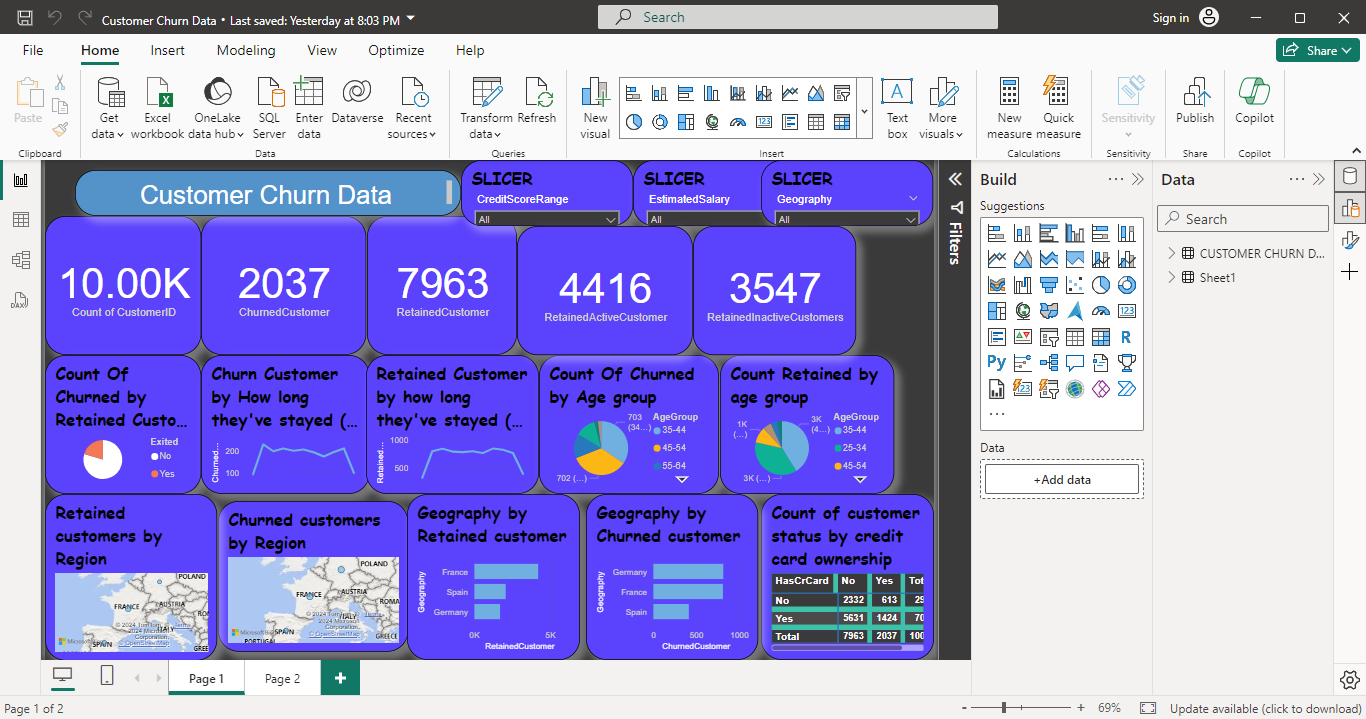

Layout of this report page (visuals, bound fields, positions):
{"tool":"powerbi","page":{"name":"Page 1","canvas":[1280,720],"ordinal":0},"visuals":[{"type":"card","title":"Count Of Churned by  Retained  Customer","fields":{"Values":["CUSTOMER CHURN DATA.CustomerID"]},"box":[0,80.4,225.3,200.2],"z":0},{"type":"pieChart","title":"Count Of Churned by  Retained  Customer Showing proportion","fields":{"Category":["CUSTOMER CHURN DATA.Exited"],"Y":["CUSTOMER CHURN DATA.Exited"]},"box":[0,280.8,224.6,200.2],"z":1000},{"type":"card","title":"Count Of Churned by  Retained  Customer Showing proportion","fields":{"Values":["CUSTOMER CHURN DATA.ChurnedCustomer"]},"box":[225.3,80.4,237.8,200.2],"z":2000},{"type":"card","title":"Count Of Churned by  Retained  Customer Showing proportion","fields":{"Values":["CUSTOMER CHURN DATA.RetainedCustomer"]},"box":[463,80.4,216.3,200.2],"z":3000},{"type":"lineChart","title":"Churn Customer by How long they''ve stayed (Tenure)","fields":{"Category":["CUSTOMER CHURN DATA.Tenure"],"Y":["CUSTOMER CHURN DATA.ChurnedCustomer"]},"box":[224.6,280.8,243.4,200.2],"z":4000},{"type":"lineChart","title":"Retained Customer  by how long they''ve stayed (Tenure)","fields":{"Category":["CUSTOMER CHURN DATA.Tenure"],"Y":["CUSTOMER CHURN DATA.RetainedCustomer"]},"box":[462.2,280.8,249.1,200.2],"z":5000},{"type":"pieChart","title":"Count Of Churned by  Age group","fields":{"Category":["CUSTOMER CHURN DATA.AgeGroup"],"Y":["CUSTOMER CHURN DATA.ChurnedCustomer"]},"box":[711.4,280.8,259.2,200.2],"z":6000},{"type":"pieChart","title":"Count Retained by age group","fields":{"Category":["CUSTOMER CHURN DATA.AgeGroup"],"Y":["CUSTOMER CHURN DATA.RetainedCustomer"]},"box":[972,280.8,250.6,200.2],"z":7000},{"type":"pivotTable","title":"Count of customer status by credit card ownership ","fields":{"Rows":["CUSTOMER CHURN DATA.HasCrCard"],"Values":["CUSTOMER CHURN DATA.CustomerID"],"Columns":["CUSTOMER CHURN DATA.Exited"]},"box":[1031,481,249.1,239],"z":8000},{"type":"map","title":"Churned customers by Region","fields":{"Category":["CUSTOMER CHURN DATA.Geography"],"Size":["CUSTOMER CHURN DATA.ChurnedCustomer"]},"box":[249.1,491,273.6,217.4],"z":9000},{"type":"map","title":" Retained customers by Region","fields":{"Category":["CUSTOMER CHURN DATA.Geography"],"Size":["CUSTOMER CHURN DATA.RetainedCustomer"]},"box":[0,480.9,248.5,239.6],"z":10000},{"type":"barChart","title":"Geography by Retained customer","fields":{"Category":["CUSTOMER CHURN DATA.Geography"],"Y":["CUSTOMER CHURN DATA.RetainedCustomer"]},"box":[521.3,481,249.1,239],"z":11000},{"type":"barChart","title":"Geography by Churned customer","fields":{"Category":["CUSTOMER CHURN DATA.Geography"],"Y":["CUSTOMER CHURN DATA.ChurnedCustomer"]},"box":[779,481,247.7,239],"z":12000},{"type":"textbox","box":[42.9,14.3,556,66.1],"z":13000},{"type":"slicer","title":"SLICER","fields":{"Values":["CUSTOMER CHURN DATA.CreditScoreRange"]},"box":[598.9,0,248.5,94.7],"z":14000},{"type":"slicer","title":"SLICER","fields":{"Values":["CUSTOMER CHURN DATA.EstimatedSalary"]},"box":[847.4,0,248.5,94.7],"z":15000},{"type":"slicer","title":"SLICER","fields":{"Values":["CUSTOMER CHURN DATA.Geography"]},"box":[1031.5,0,248.5,94.7],"z":16000},{"type":"card","title":"Count Of Churned by  Retained  Customer Showing proportion","fields":{"Values":["CUSTOMER CHURN DATA.RetainedActiveCustomer"]},"box":[679.7,95,253.4,185.8],"z":17000},{"type":"card","title":"Count Of Churned by  Retained  Customer Showing proportion","fields":{"Values":["CUSTOMER CHURN DATA.RetainedInactiveCustomers"]},"box":[933.1,95,234.7,185.8],"z":18000}]}

Visuals, with their boxes on the page's 1280x720 design canvas (x1, y1, x2, y2). These are canvas units, not pixel positions in the 1366x719 screenshot, which may show the page scaled, cropped or inside an application window:
"Count Of Churned by  Retained  Customer" card: BBox(0, 80, 225, 281)
"Count Of Churned by  Retained  Customer Showing proportion" pieChart: BBox(0, 281, 225, 481)
"Count Of Churned by  Retained  Customer Showing proportion" card: BBox(225, 80, 463, 281)
"Count Of Churned by  Retained  Customer Showing proportion" card: BBox(463, 80, 679, 281)
"Churn Customer by How long they''ve stayed (Tenure)" lineChart: BBox(225, 281, 468, 481)
"Retained Customer  by how long they''ve stayed (Tenure)" lineChart: BBox(462, 281, 711, 481)
"Count Of Churned by  Age group" pieChart: BBox(711, 281, 971, 481)
"Count Retained by age group" pieChart: BBox(972, 281, 1223, 481)
"Count of customer status by credit card ownership " pivotTable: BBox(1031, 481, 1280, 720)
"Churned customers by Region" map: BBox(249, 491, 523, 708)
" Retained customers by Region" map: BBox(0, 481, 248, 720)
"Geography by Retained customer" barChart: BBox(521, 481, 770, 720)
"Geography by Churned customer" barChart: BBox(779, 481, 1027, 720)
textbox: BBox(43, 14, 599, 80)
"SLICER" slicer: BBox(599, 0, 847, 95)
"SLICER" slicer: BBox(847, 0, 1096, 95)
"SLICER" slicer: BBox(1032, 0, 1280, 95)
"Count Of Churned by  Retained  Customer Showing proportion" card: BBox(680, 95, 933, 281)
"Count Of Churned by  Retained  Customer Showing proportion" card: BBox(933, 95, 1168, 281)
